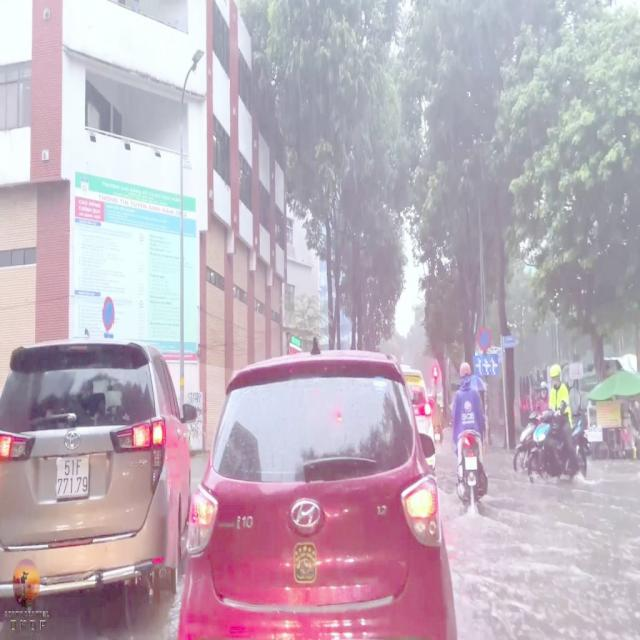cam_do_xe: (102, 297, 114, 331), (477, 328, 491, 352)
huong_di_tren_moi_lan_duong_theo_vach_ke_duong: (474, 354, 498, 375)
